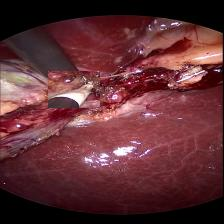Hook: (48, 70, 100, 107)
